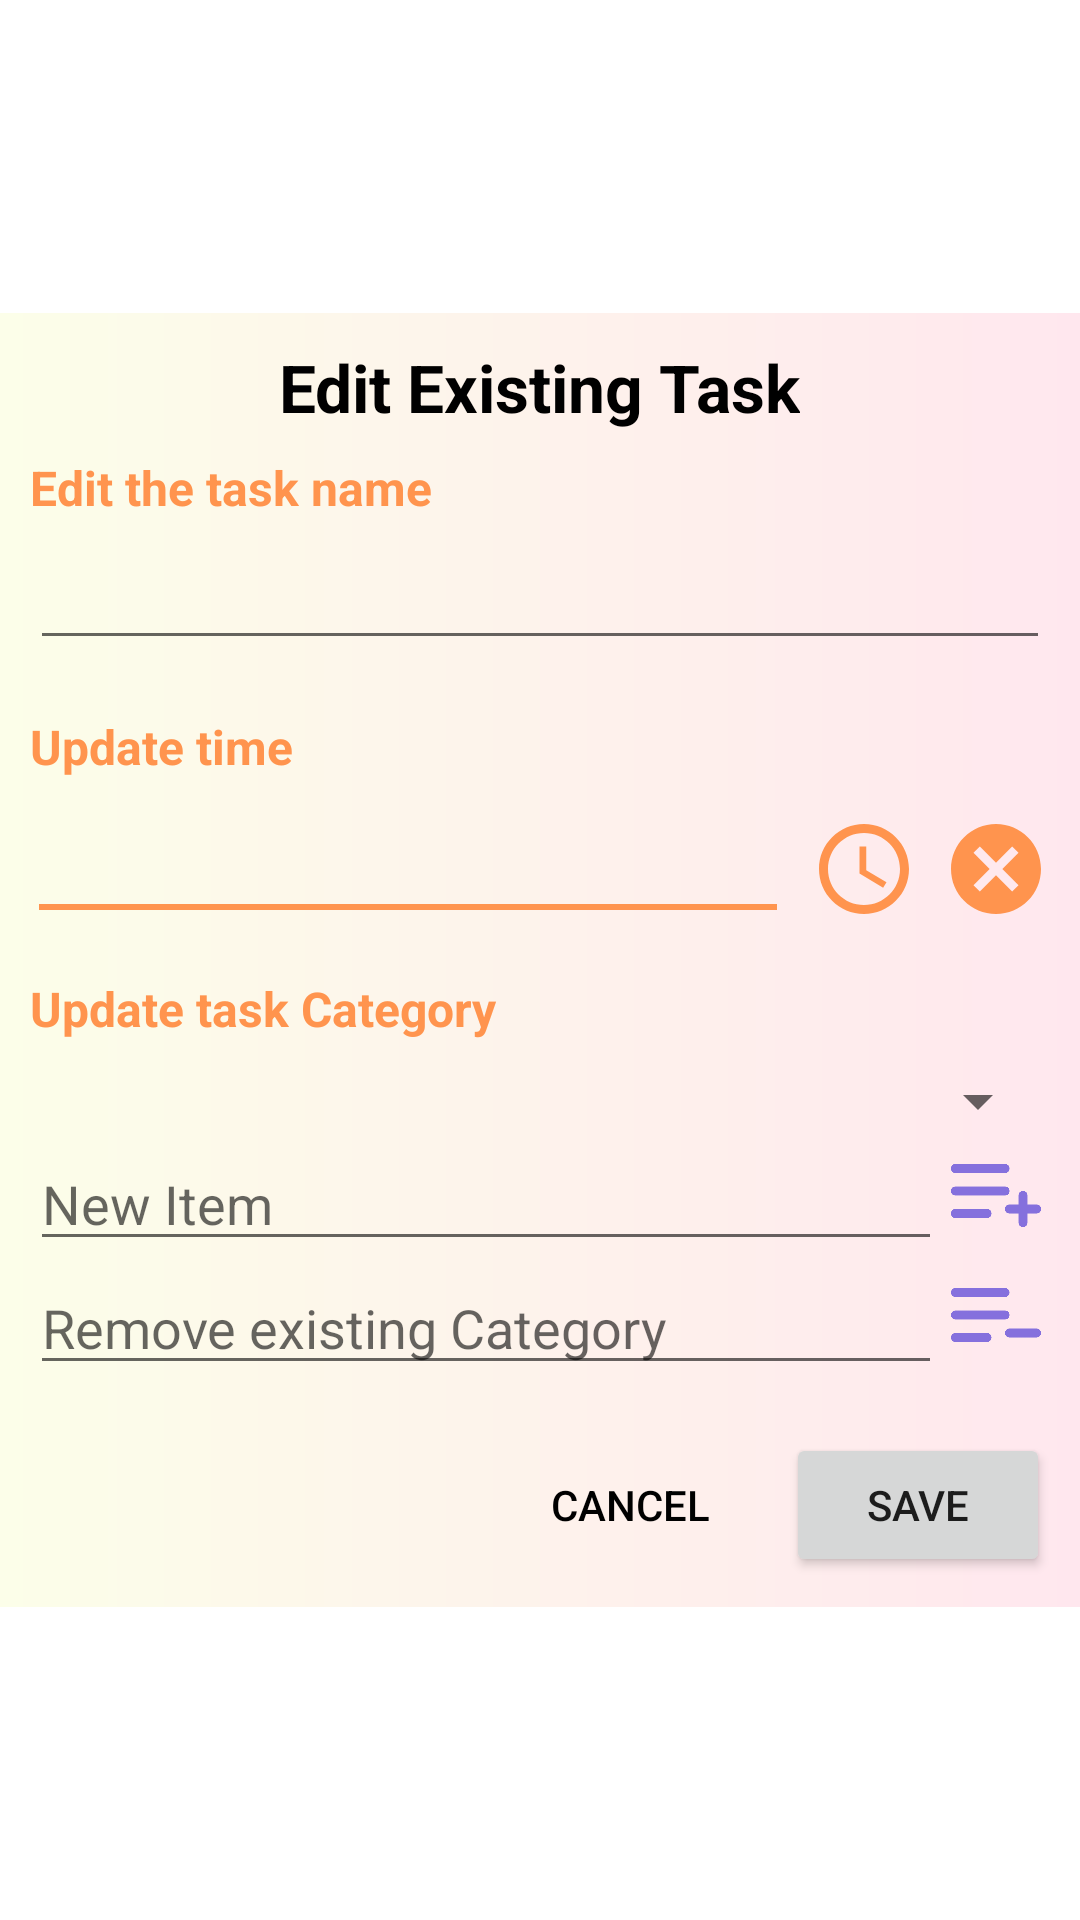

Locate icon controls on the screen. Image size 1080 × 1920, boxes as (x1, y1, x2, y2).
access time: (819, 824, 909, 914)
add list: (951, 1164, 1041, 1227)
cancel: (951, 824, 1041, 914)
remove list: (951, 1288, 1041, 1342)
